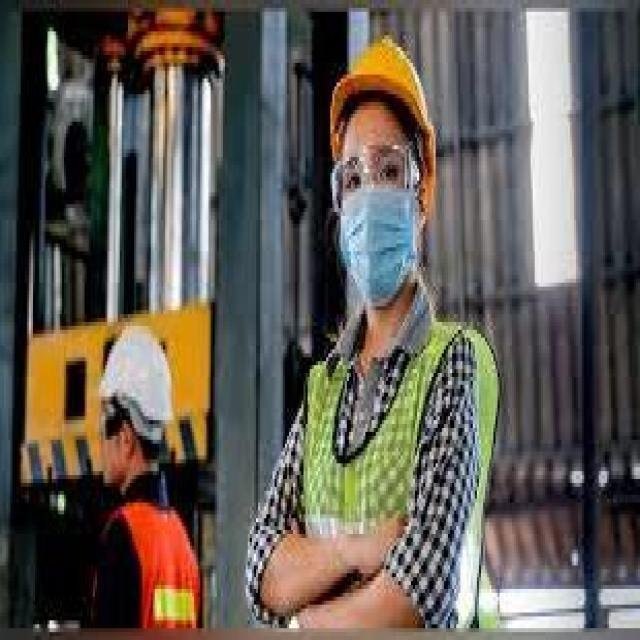reflective_jacket: (276, 306, 514, 632), (72, 483, 210, 636)
safety_helmet: (324, 19, 454, 180), (87, 314, 188, 463)
